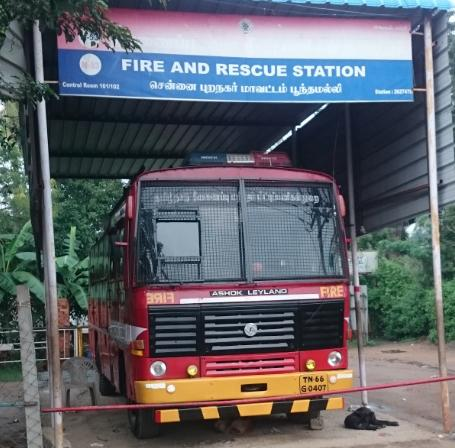Fire-engine: (81, 155, 354, 430)
